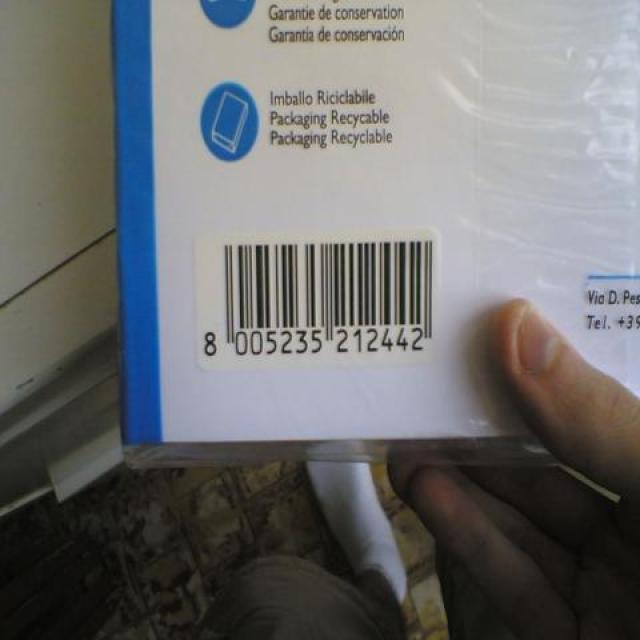Barcode: (195, 232, 444, 367)
